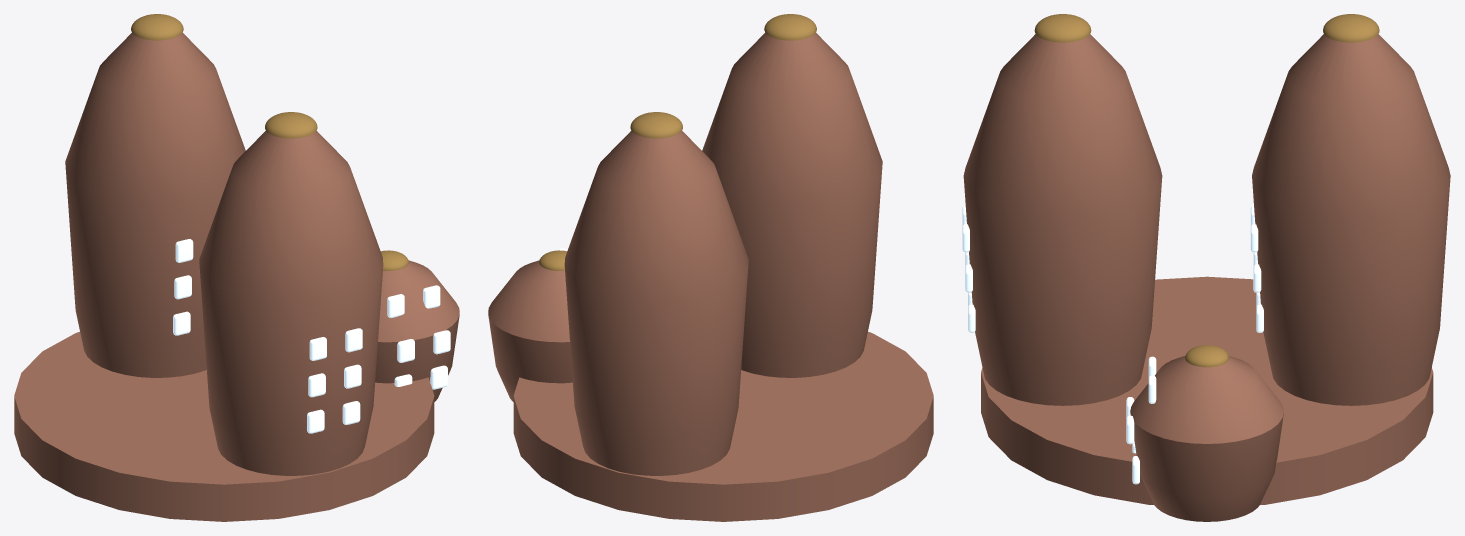
3 views of the same model, side by side, from view 1: azimuth 30°, elevation 25°; view 2: azimuth 150°, elevation 25°; view 3: azimuth 270°, elevation 25° (orthographic). The views are drawn at different scales.
Parts seen in each view (by area): view 1: Bulb shaped chamber.001, Bulb shaped chamber, Foundation drum, Bulb shaped chamber.002, Tower crown.001, Tower crown; view 2: Bulb shaped chamber, Bulb shaped chamber.001, Foundation drum, Bulb shaped chamber.002, Tower crown, Tower crown.001; view 3: Bulb shaped chamber.001, Bulb shaped chamber, Foundation drum, Bulb shaped chamber.002, Tower crown, Tower crown.001, Tower crown.002.
Part boxes in pixels (bbox=[...]): Bulb shaped chamber.001: bbox=[199, 130, 383, 475]; Bulb shaped chamber: bbox=[65, 32, 245, 377]; Foundation drum: bbox=[14, 331, 434, 521]; Bulb shaped chamber.002: bbox=[375, 260, 459, 401]; Tower crown.001: bbox=[265, 112, 317, 138]; Tower crown: bbox=[131, 14, 183, 40]; Bulb shaped chamber: bbox=[564, 130, 748, 475]; Bulb shaped chamber.001: bbox=[702, 32, 882, 377]; Foundation drum: bbox=[513, 331, 933, 521]; Bulb shaped chamber.002: bbox=[488, 260, 572, 401]; Tower crown: bbox=[630, 112, 682, 138]; Tower crown.001: bbox=[764, 14, 816, 40]; Bulb shaped chamber.001: bbox=[963, 34, 1162, 405]; Bulb shaped chamber: bbox=[1252, 34, 1450, 405]; Foundation drum: bbox=[981, 276, 1433, 505]; Bulb shaped chamber.002: bbox=[1130, 356, 1283, 521]; Tower crown: bbox=[1323, 14, 1379, 42]; Tower crown.001: bbox=[1034, 14, 1091, 42]; Tower crown.002: bbox=[1185, 345, 1228, 367].
Bounding box in the file's own units: 2.29 × 1.96 × 2.2.
